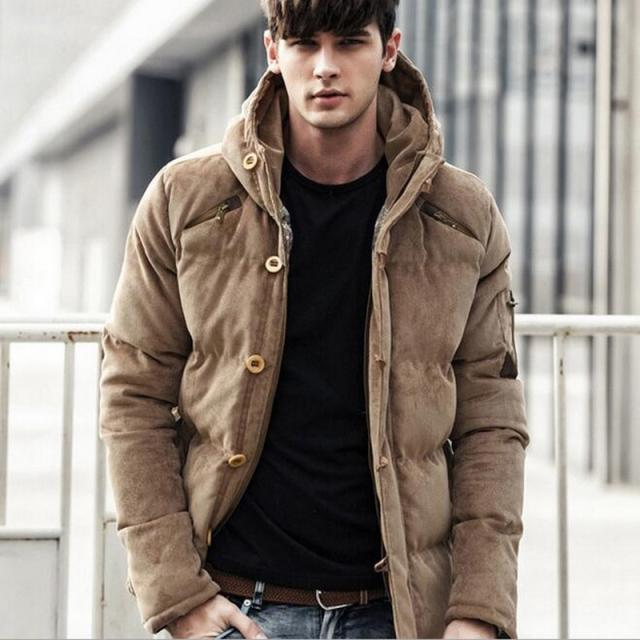human: (91, 7, 538, 638)
